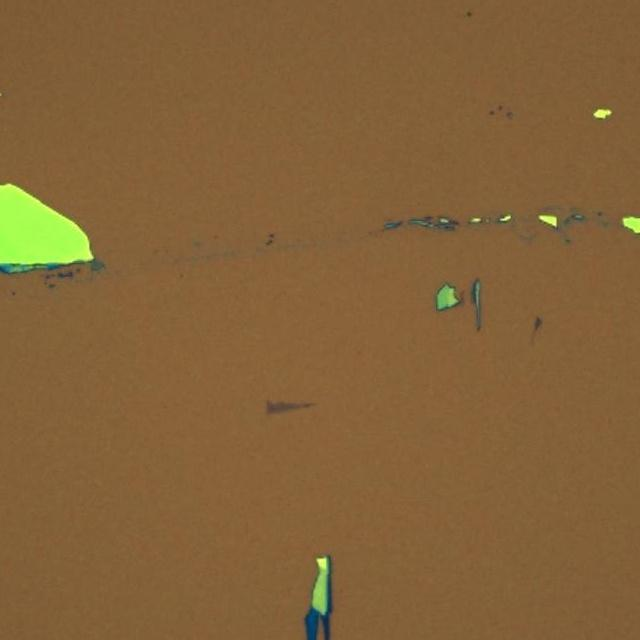monolayer-eWW4: (264, 400, 314, 414)
